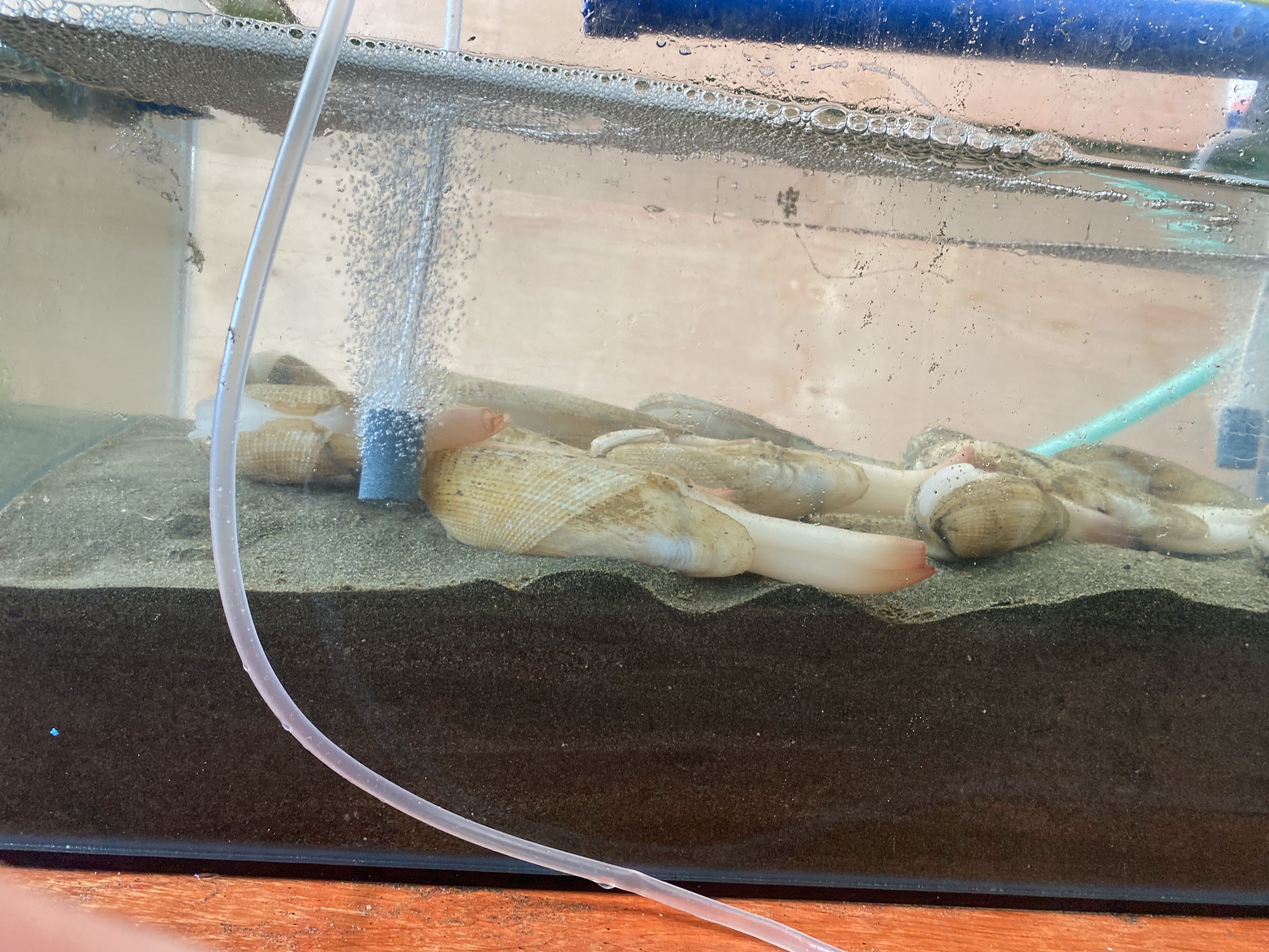Healthy: (421, 439, 933, 594), (977, 443, 1261, 554), (591, 428, 933, 519), (238, 383, 369, 483), (754, 468, 901, 519), (405, 407, 510, 462), (1041, 491, 1127, 545)
